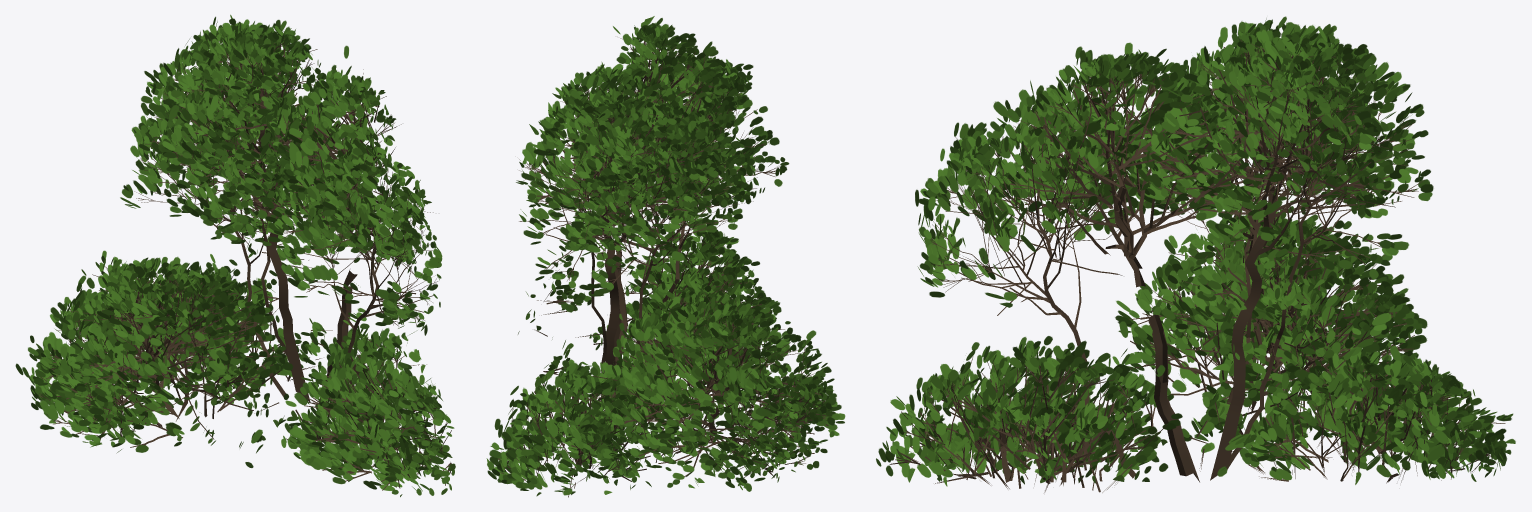
3 views of the same model, side by side, from view 1: azimuth 30°, elevation 25°; view 2: azimuth 150°, elevation 25°; view 3: azimuth 270°, elevation 25° (orthographic). The views are drawn at different scales.
Parts seen in each view (by area): view 1: oak 01.001_trunk_Mat.001_0.481; view 2: oak 01.001_trunk_Mat.001_0.481; view 3: oak 01.001_trunk_Mat.001_0.481.
Boxes of the visible parts, x1=… form: oak 01.001_trunk_Mat.001_0.481: x1=15, y1=14, x2=455, y2=497; oak 01.001_trunk_Mat.001_0.481: x1=486, y1=16, x2=845, y2=497; oak 01.001_trunk_Mat.001_0.481: x1=876, y1=16, x2=1515, y2=492.
Size of the model in its own units: 2.95 by 3.85 by 4.86.
Materials: 2 (1 with a texture image).
